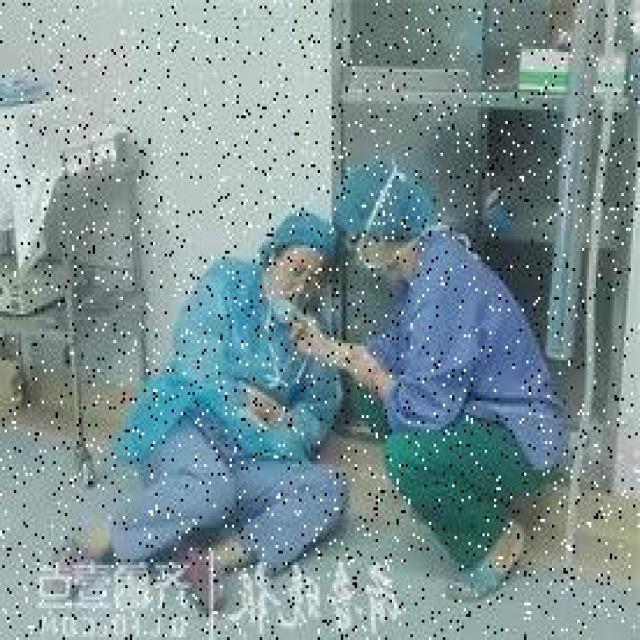fall: (74, 225, 334, 560)
